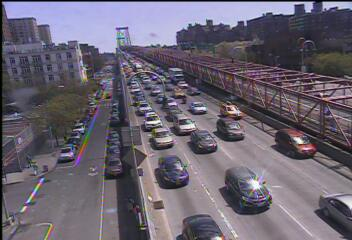neg: (226, 129, 245, 154), (200, 98, 218, 122), (134, 105, 146, 120), (177, 93, 187, 107), (80, 154, 89, 165)
pos: (27, 160, 43, 182), (21, 151, 34, 168)
